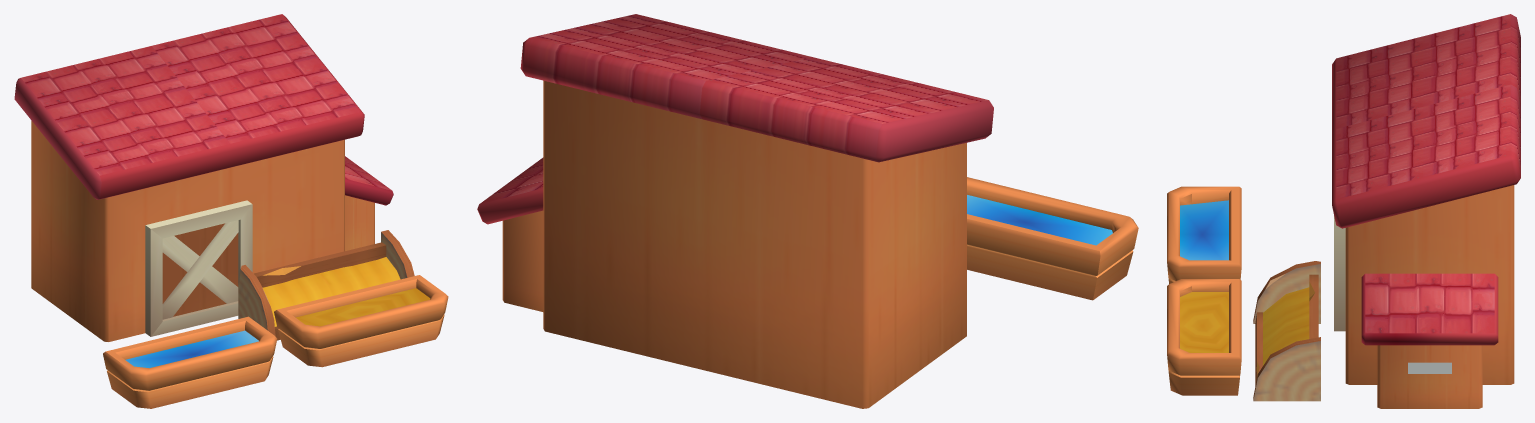
The model's file is Animal_House.fbx.
3 views of the same model, side by side, from view 1: azimuth 30°, elevation 25°; view 2: azimuth 150°, elevation 25°; view 3: azimuth 270°, elevation 25° (orthographic). The views are drawn at different scales.
Parts seen in each view (by area): view 1: Animal_House, Animal_House_Door, Animal_Water, Feedlot, Feedlot_2; view 2: Animal_House, Animal_Water; view 3: Animal_House, Feedlot_2, Feedlot, Animal_Water, Animal_House_Door.
Boxes of the visible parts, bbox=[...] form: Animal_House: bbox=[14, 14, 393, 341]; Animal_House_Door: bbox=[145, 200, 252, 336]; Animal_Water: bbox=[103, 316, 277, 408]; Feedlot: bbox=[274, 275, 448, 367]; Feedlot_2: bbox=[238, 230, 414, 340]; Animal_House: bbox=[477, 14, 993, 408]; Animal_Water: bbox=[967, 177, 1138, 300]; Animal_House: bbox=[1332, 14, 1520, 408]; Feedlot_2: bbox=[1253, 261, 1320, 401]; Feedlot: bbox=[1167, 279, 1241, 395]; Animal_Water: bbox=[1167, 186, 1241, 283]; Animal_House_Door: bbox=[1334, 216, 1345, 331].
Bounding box in the file's own units: 376 × 221 × 300.
